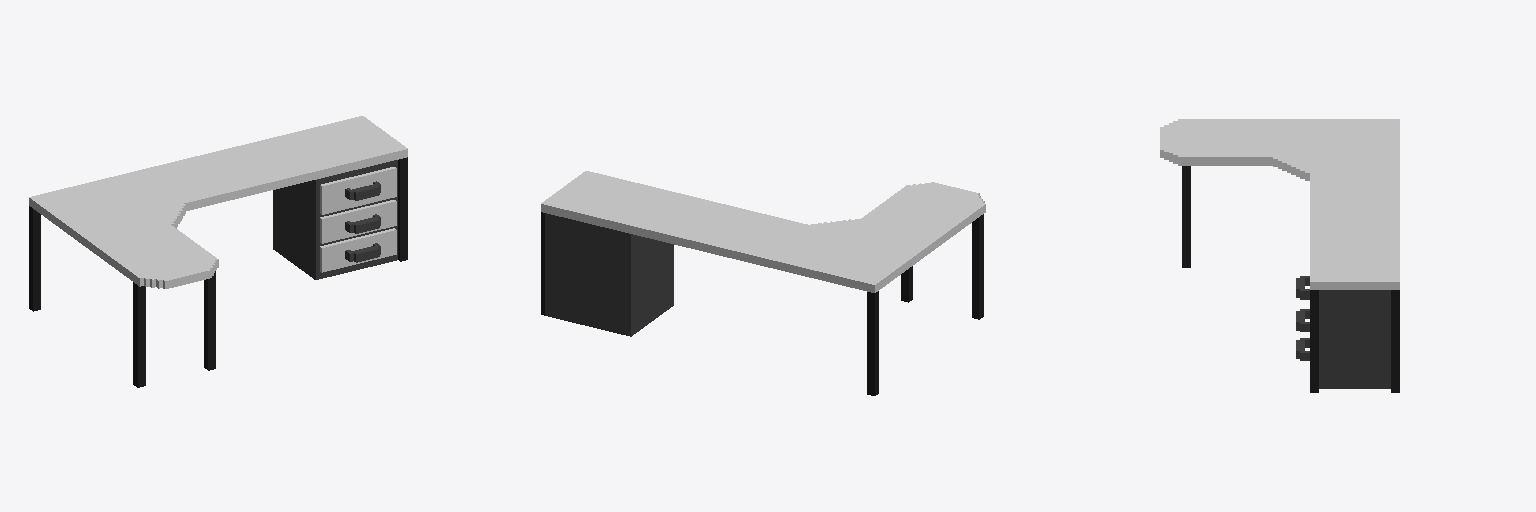
3 views of the same model, side by side, from view 1: azimuth 30°, elevation 25°; view 2: azimuth 150°, elevation 25°; view 3: azimuth 270°, elevation 25° (orthographic).
Visible parts, largest first — view 1: object 1; view 2: object 1; view 3: object 1.
Boxes of the visible parts, box(x1,y1,x2,y2) form: object 1: box(29, 116, 407, 387); object 1: box(541, 171, 985, 395); object 1: box(1160, 119, 1399, 392).
Size of the model in its own units: 8.5 by 2.7 by 5.3.
1 materials, 1 textured.